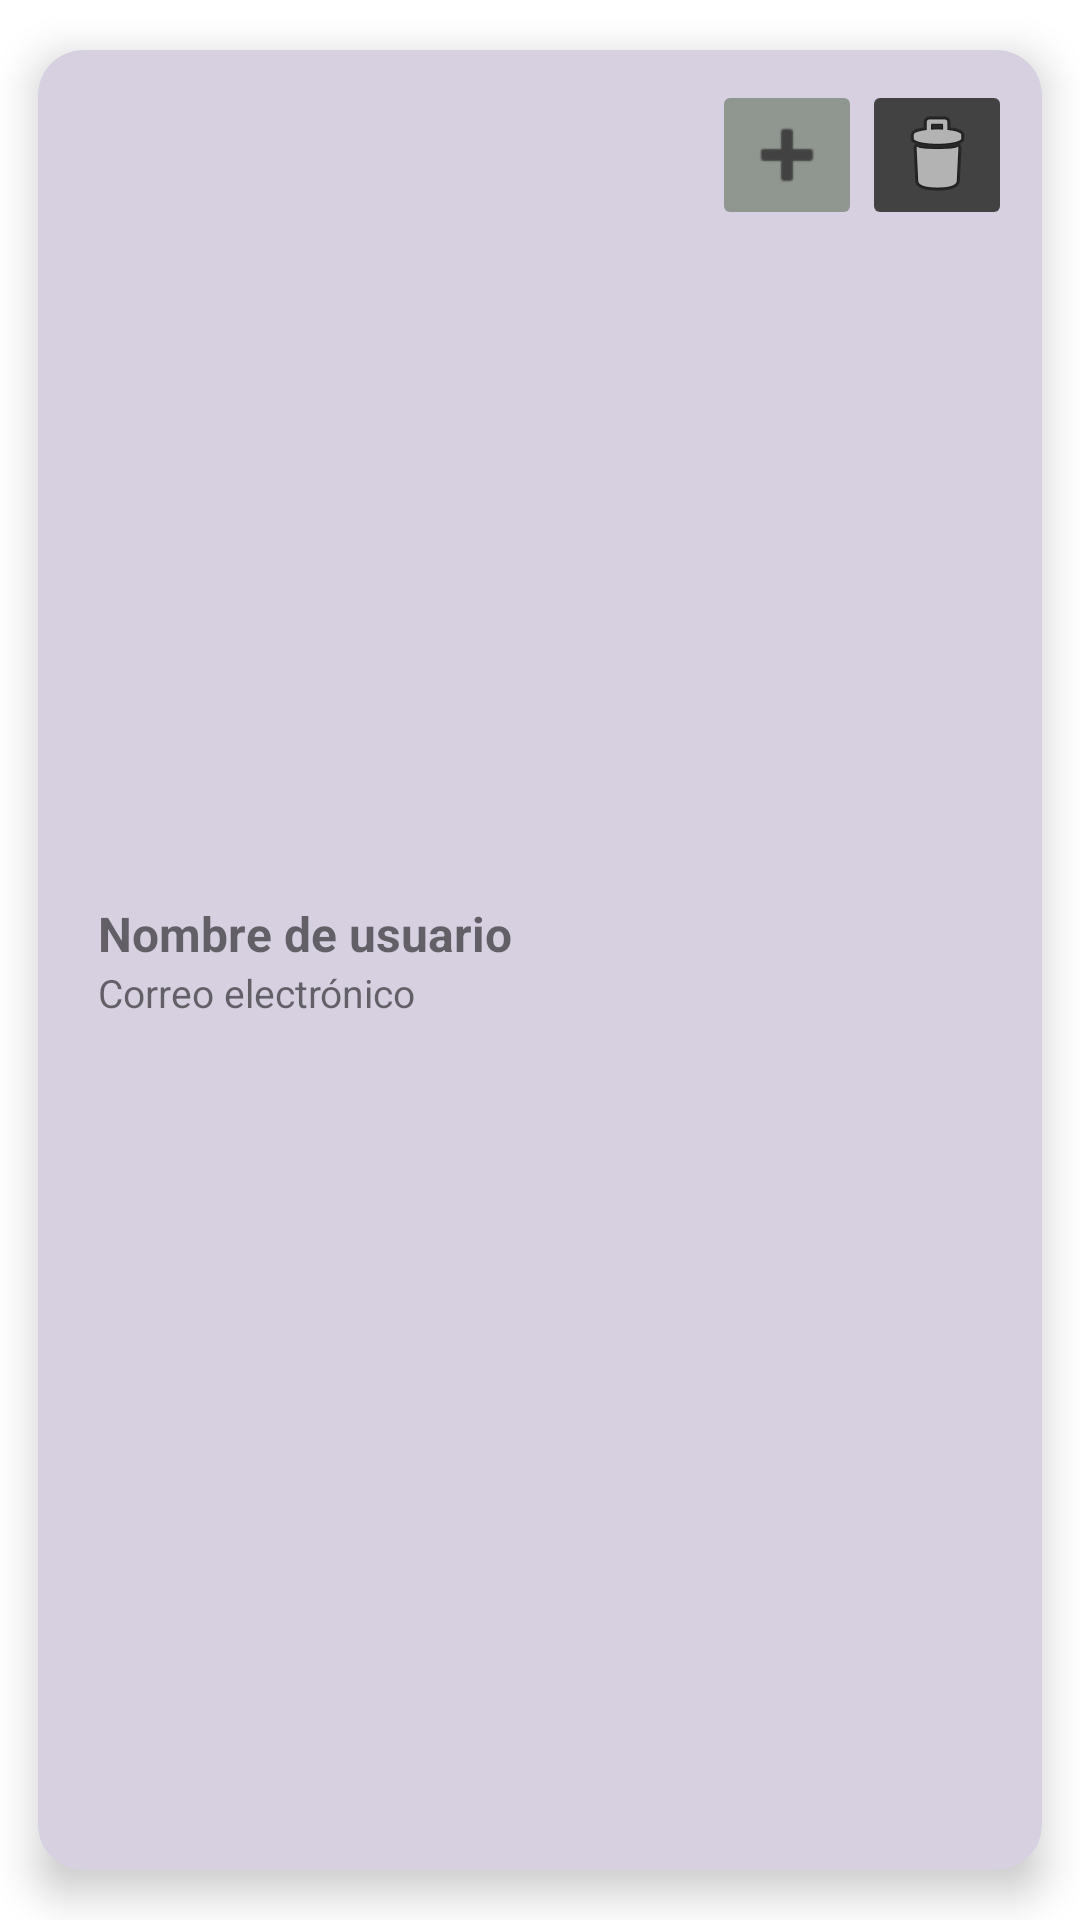

Named icons in this screenshot (1080×1920) and their bounding boxes, bbox(x1, y1, x2, y2):
add: bbox(724, 98, 850, 212)
delete: bbox(874, 98, 1000, 212)
